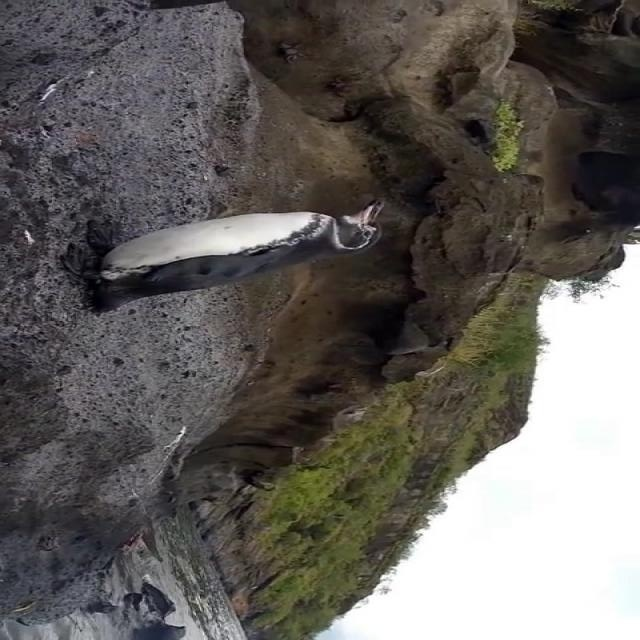penguin: (59, 196, 386, 316)
